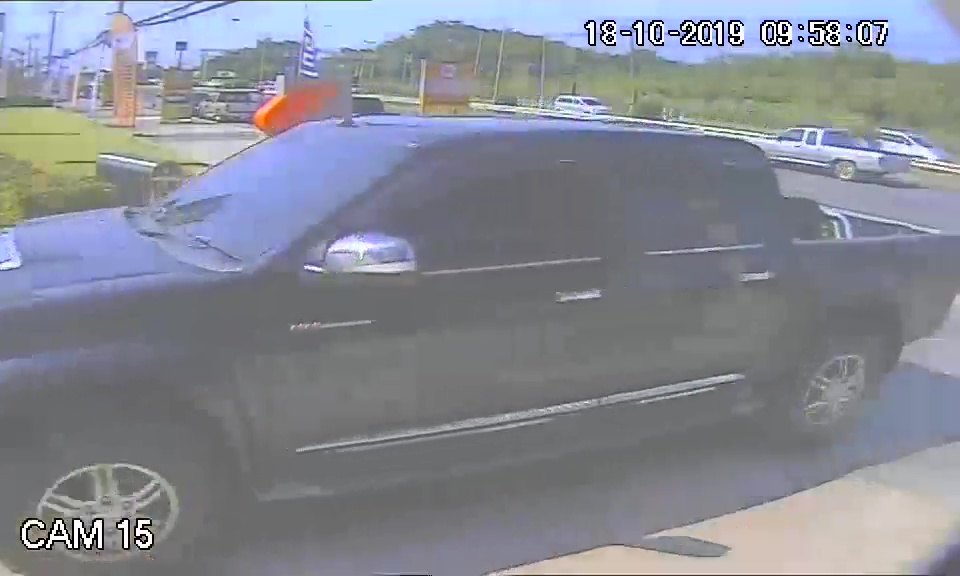pickup: (4, 111, 787, 496)
